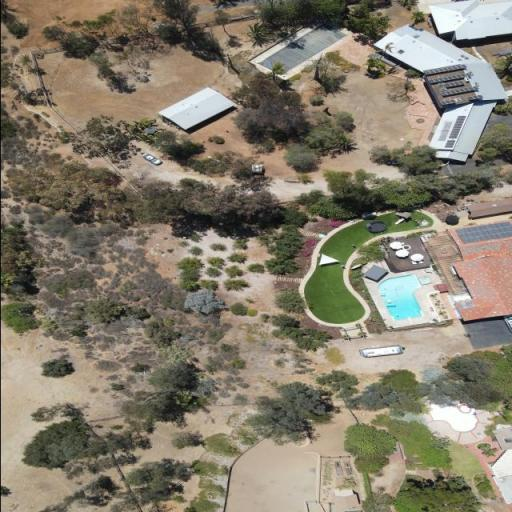solar-panel: (454, 221, 512, 244), (423, 64, 467, 74), (427, 73, 471, 83), (447, 116, 466, 139), (439, 86, 479, 95), (443, 81, 465, 87), (439, 99, 456, 105), (443, 140, 455, 148), (466, 95, 484, 100)
